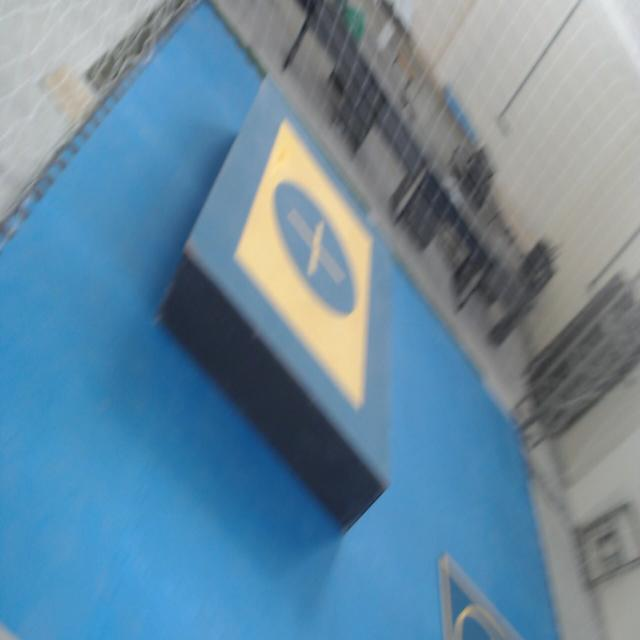base_inicio: (232, 119, 373, 411)
base_pouso: (438, 558, 527, 639)
